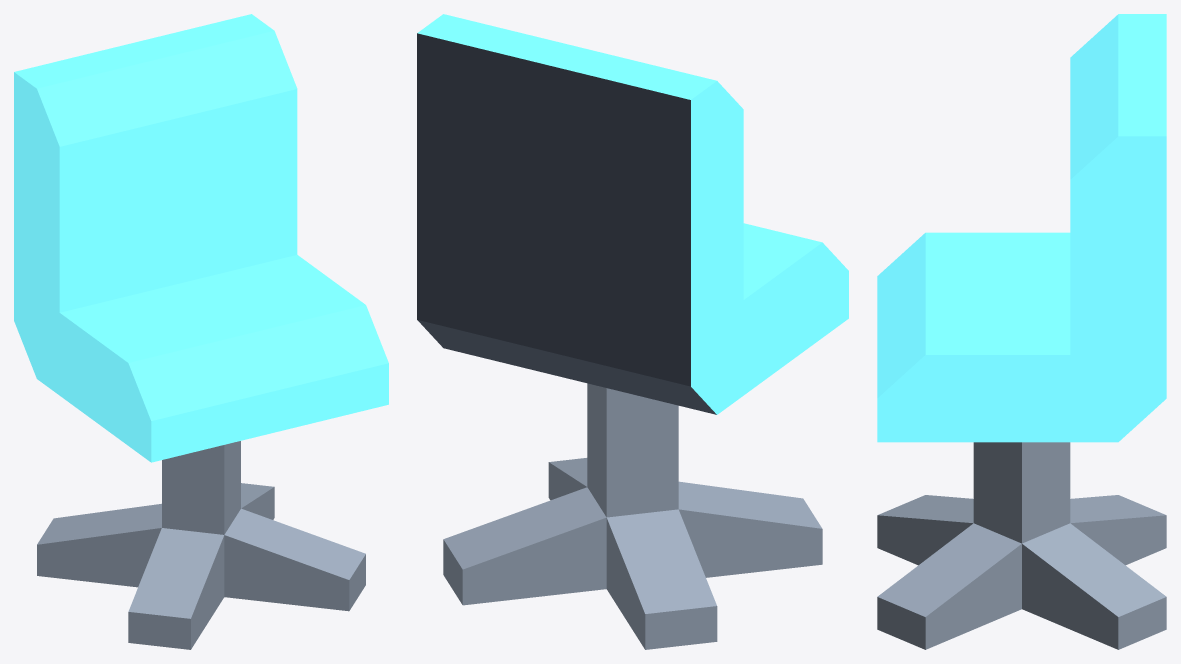
File: desk_chair.glb
The picture shows the model from 3 angles, left to right: view 1: azimuth 30°, elevation 25°; view 2: azimuth 150°, elevation 25°; view 3: azimuth 270°, elevation 25°; orthographic projection. The views are drawn at different scales.
Parts seen in each view (by area): view 1: desk_chair; view 2: desk_chair; view 3: desk_chair.
Boxes of the visible parts, x1,y1,x2,y2 form: desk_chair: [14, 14, 388, 649]; desk_chair: [417, 14, 848, 649]; desk_chair: [877, 14, 1166, 649].
Size of the model in its own units: 0.15 by 0.2937 by 0.15.
